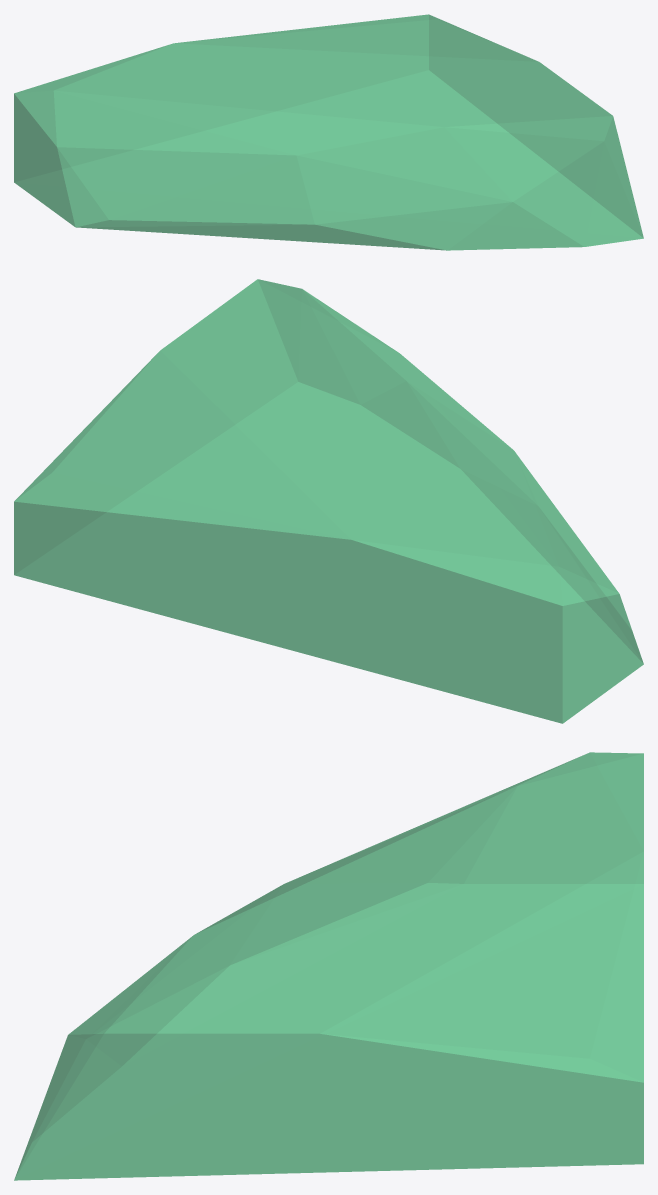
3 views of the same model, one above another, from view 1: azimuth 30°, elevation 25°; view 2: azimuth 150°, elevation 25°; view 3: azimuth 270°, elevation 25° (orthographic). The views are drawn at different scales.
Parts seen in each view (by area): view 1: Shape_IndexedFaceSet.092_Shape_IndexedFaceSet.6355; view 2: Shape_IndexedFaceSet.092_Shape_IndexedFaceSet.6355; view 3: Shape_IndexedFaceSet.092_Shape_IndexedFaceSet.6355.
Part boxes in pixels (x1,y1,x2,y2): Shape_IndexedFaceSet.092_Shape_IndexedFaceSet.6355: [14, 14, 643, 250]; Shape_IndexedFaceSet.092_Shape_IndexedFaceSet.6355: [14, 279, 643, 723]; Shape_IndexedFaceSet.092_Shape_IndexedFaceSet.6355: [14, 752, 643, 1180].
Bounding box in the file's own units: 0.0927 × 0.0214 × 0.0832.
